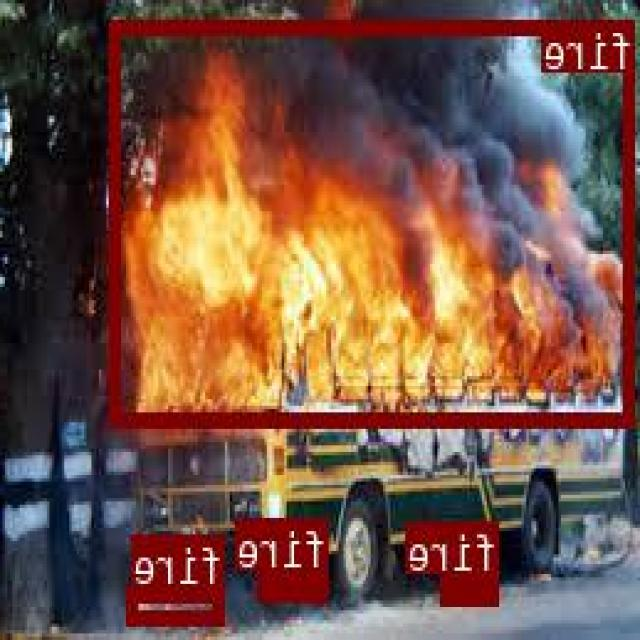fire: (112, 18, 635, 424), (130, 586, 227, 620), (260, 570, 330, 597), (443, 573, 500, 603)
